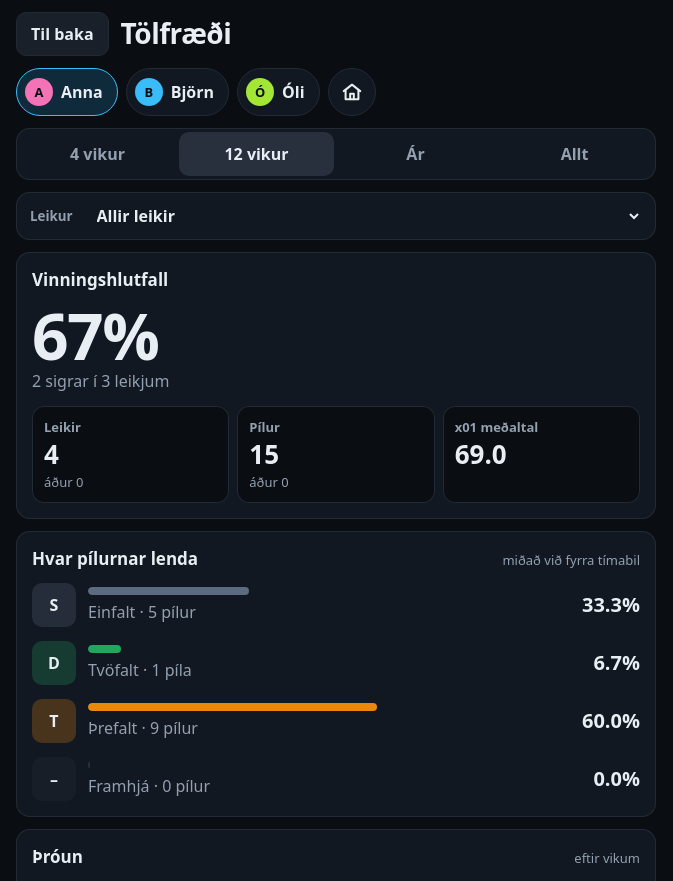
Test case: StatsScreen for a guest › leaves the x01 average off the household view for other games
Expected: the element "Vinningshlutfall" is shown, [16, 252, 656, 519]
Click the button named "Heimilið": (352, 92) [328, 68, 376, 116]
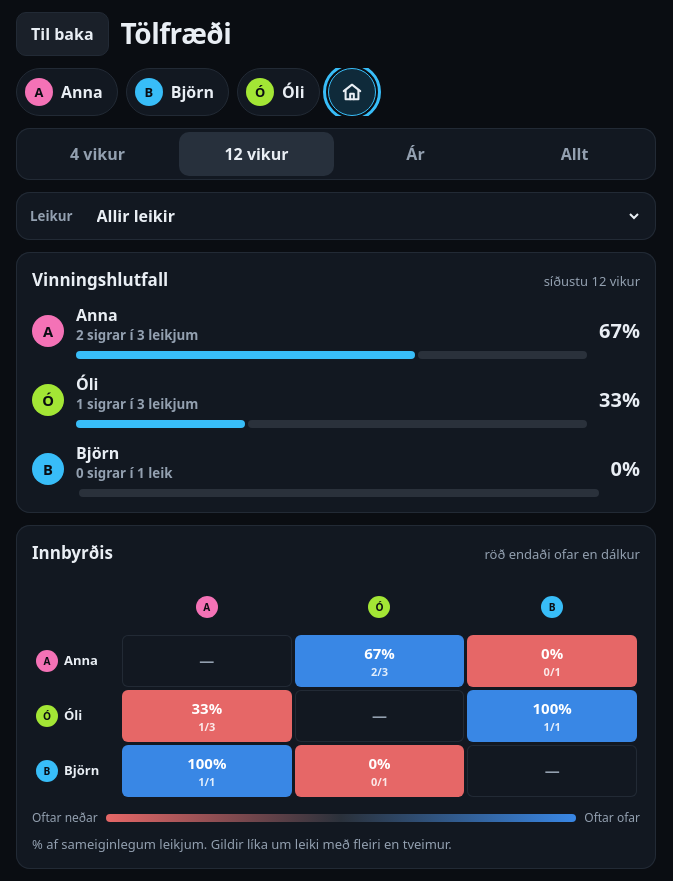
Select "Hringinn í kring" in the dropdown labelled "Leikur": (362, 216) [82, 194, 642, 238]
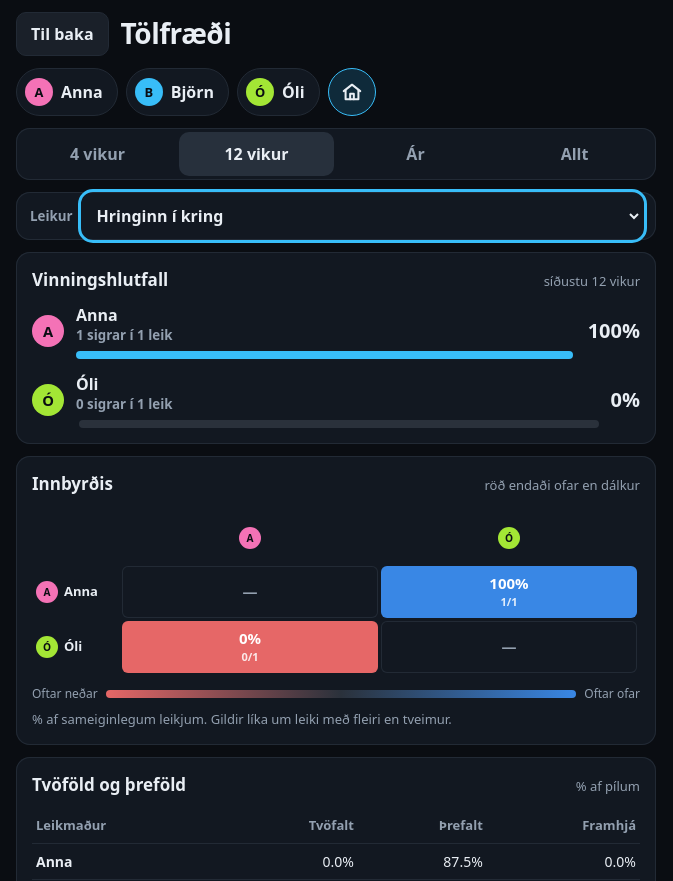
Now the number of list items is 2, box [32, 304, 640, 359]; [32, 373, 640, 428]
